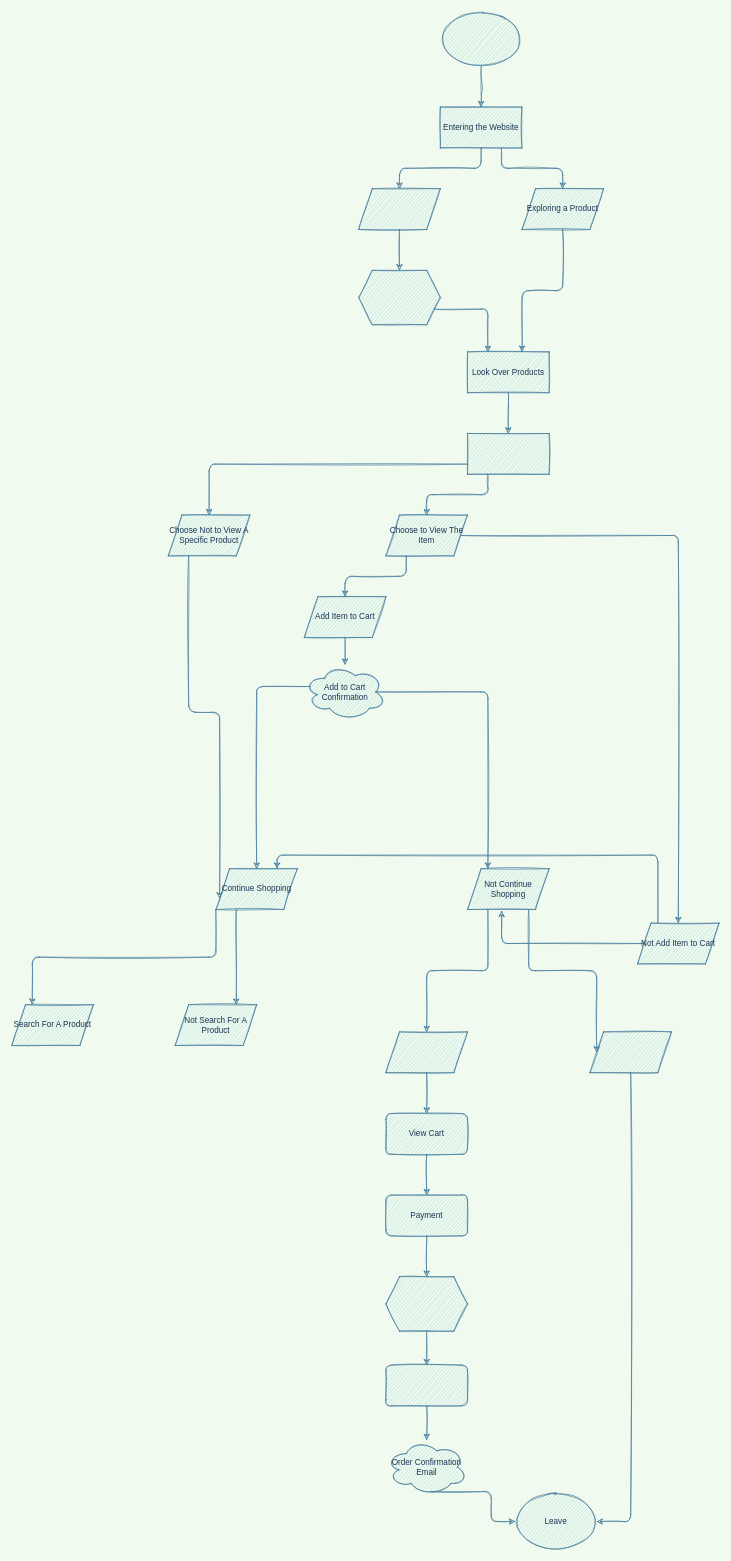
The diagram is 731 pixels wide and 1561 high, and some of its shapes have lost their labels. The shapes that lost their labels are listed below. From the top down, each one's centre as x and y in pixels, then its label:
At (x=481, y=38): "Start".
At (x=399, y=209): "Search A Product".
At (x=399, y=297): "Provide Input".
At (x=508, y=453): "View A Specific Product".
At (x=426, y=1052): "Check Out".
At (x=630, y=1052): "Not Check Out".
At (x=426, y=1303): "Input Payment Info".
At (x=426, y=1385): "Order Confirmation".
